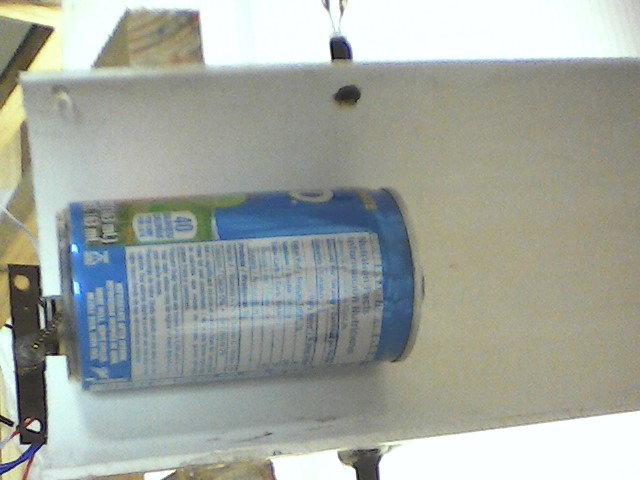lata: (53, 183, 432, 397)
